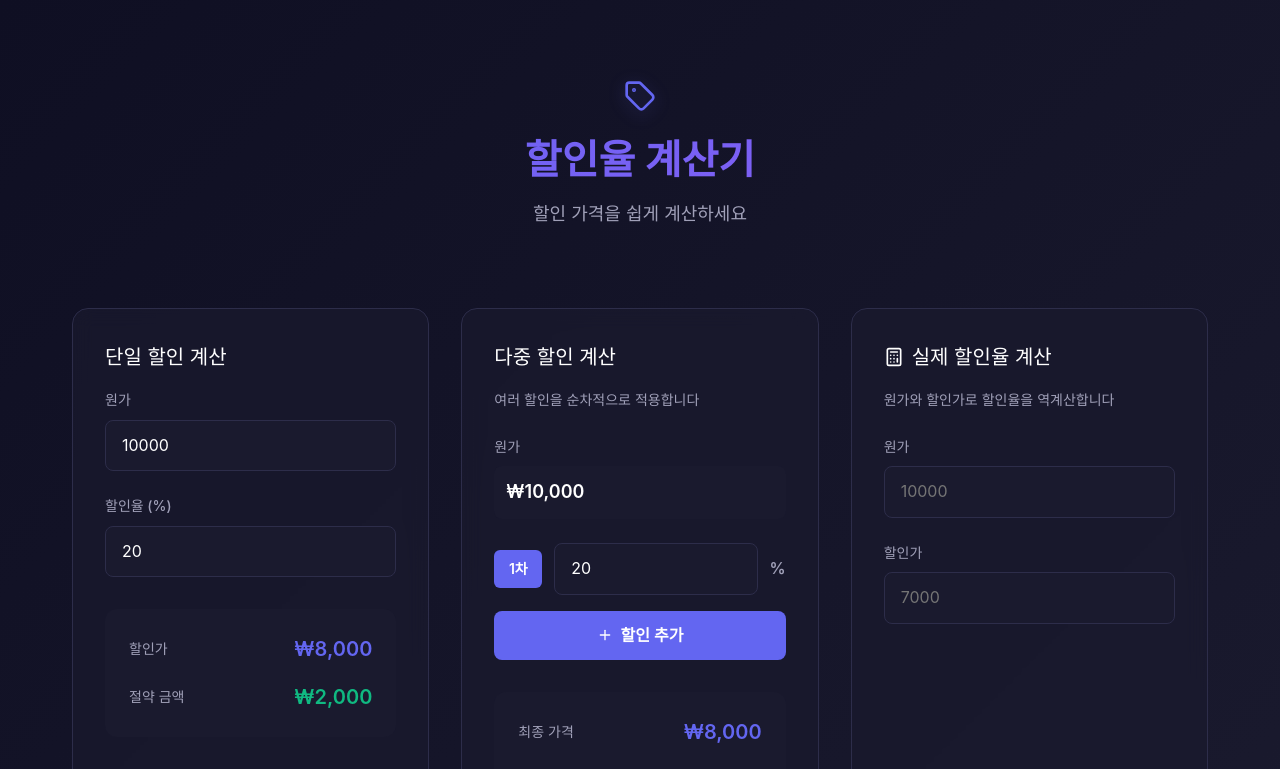
Test case: DiscountCalculator 컴포넌트 › 다중 할인 계산 › 다중 할인이 순차적으로 적용된다
Step 1. Click the button "할인 추가" → (640, 635), box [494,611,786,660]
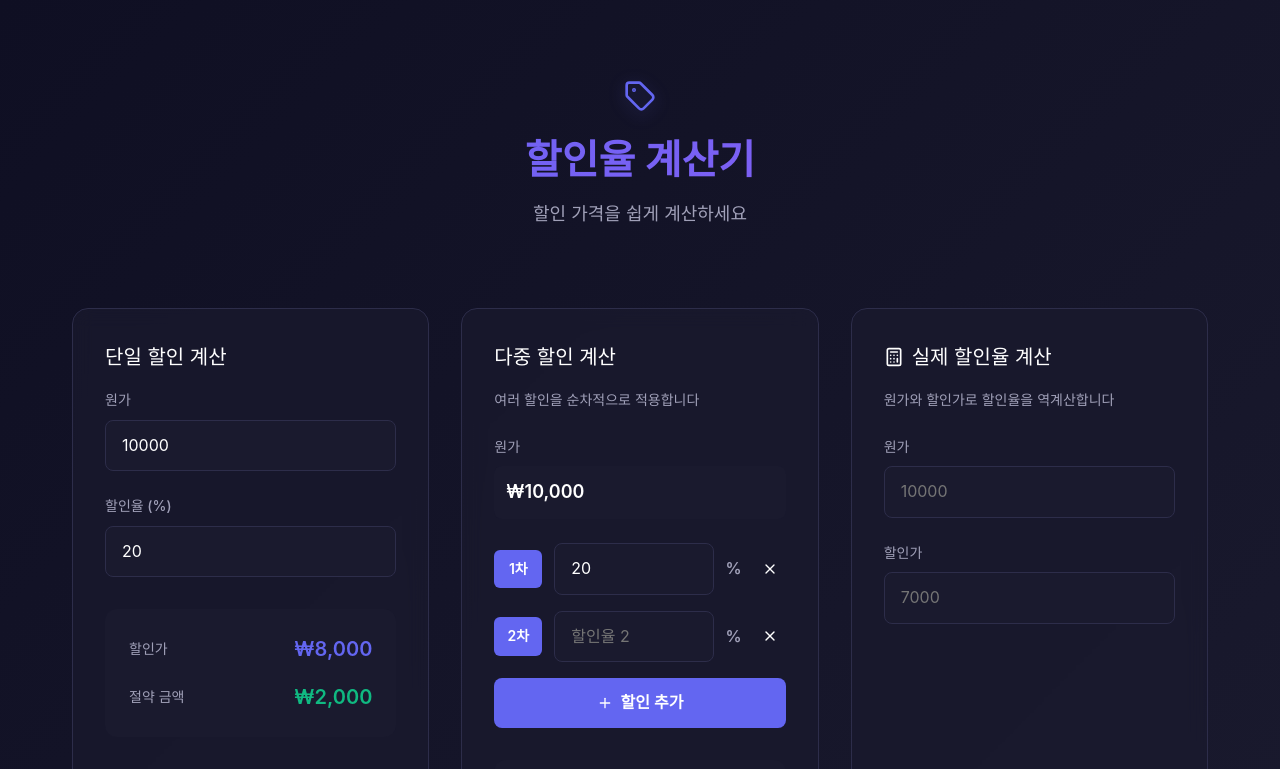
Step 2. Type "10" into the number field with placeholder "할인율 2" → (634, 636), box [554,611,714,662]
(page scrolled)
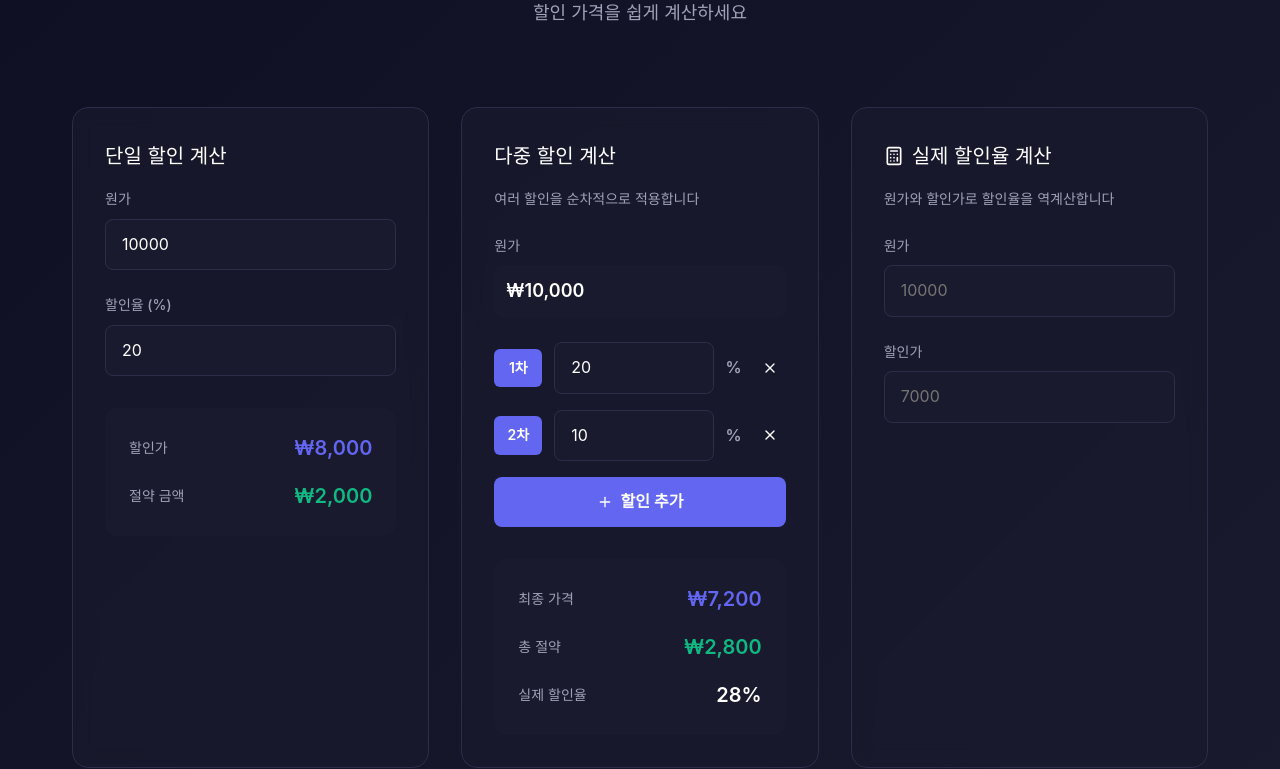
Result: the text "₩7,200" is shown at [687,583,762,615]
